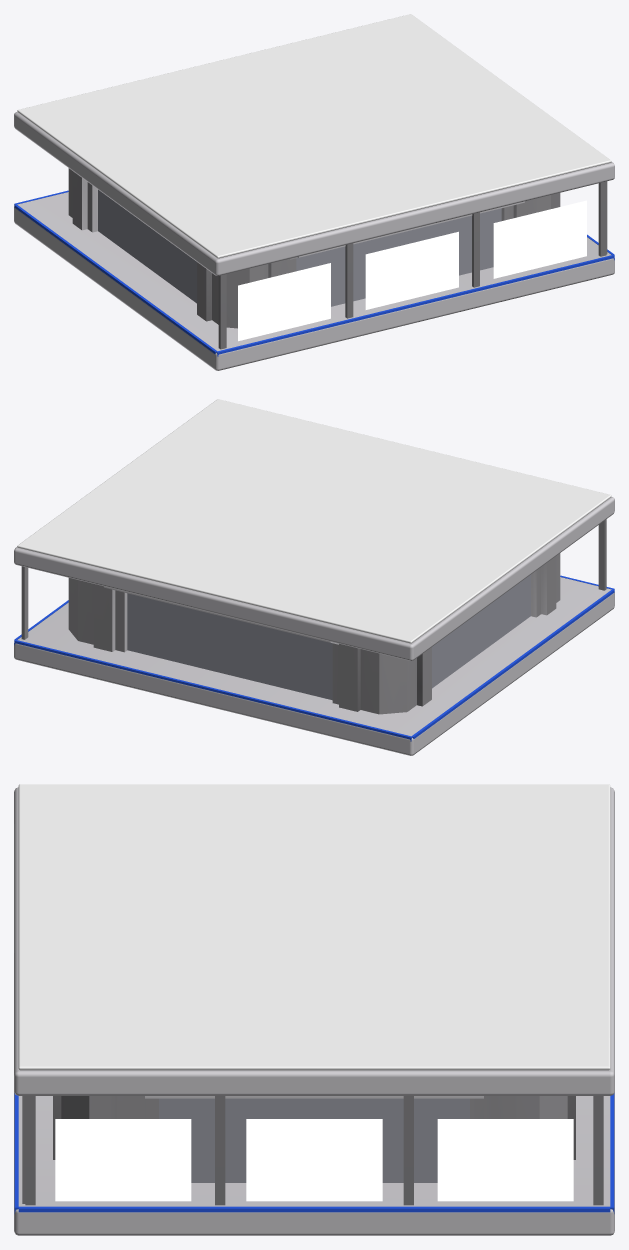
The model's file is ida-floor-special.glb.
3 renders of one model, top to bottom at view 1: azimuth 30°, elevation 25°; view 2: azimuth 150°, elevation 25°; view 3: azimuth 270°, elevation 25°, orthographic. The views are drawn at different scales.
Visible parts, largest first — view 1: Snow, Structure, Glass, Window_1, Window_2, Window_0, Accent; view 2: Snow, Structure, Glass, Accent; view 3: Snow, Structure, Glass, Window_4, Window_3, Window_5, Accent.
Boxes of the visible parts, x1,y1,x2,y2 form: Snow: [17, 14, 611, 258]; Structure: [14, 112, 614, 370]; Glass: [98, 189, 501, 306]; Window_1: [365, 231, 458, 309]; Window_2: [493, 200, 586, 278]; Window_0: [238, 263, 330, 341]; Accent: [14, 190, 614, 356]; Snow: [17, 399, 611, 643]; Structure: [14, 497, 614, 755]; Glass: [127, 574, 530, 700]; Accent: [14, 575, 614, 741]; Snow: [18, 784, 610, 1070]; Structure: [14, 787, 614, 1235]; Glass: [159, 1098, 469, 1182]; Window_4: [246, 1119, 382, 1201]; Window_3: [437, 1119, 573, 1201]; Window_5: [55, 1119, 191, 1201]; Accent: [14, 1093, 614, 1213].
Size of the model in its own units: 3 by 0.8201 by 2.65.
